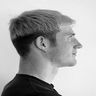ear: (30, 31, 54, 58)
